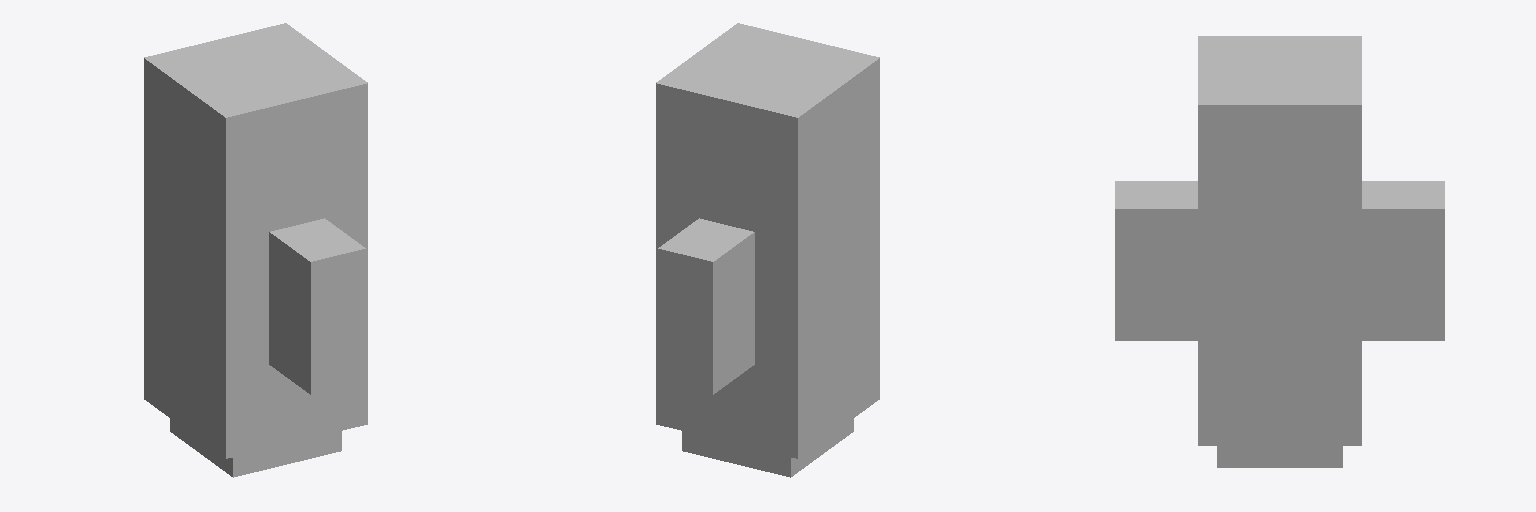
The model's file is Myknight.obj.
3 views of the same model, side by side, from view 1: azimuth 30°, elevation 25°; view 2: azimuth 150°, elevation 25°; view 3: azimuth 270°, elevation 25° (orthographic).
Visible parts, largest first — view 1: Cube_Cube.001; view 2: Cube_Cube.001; view 3: Cube_Cube.001.
Part boxes in pixels (x1,y1,x2,y2): Cube_Cube.001: (144,23,367,477); Cube_Cube.001: (656,23,879,477); Cube_Cube.001: (1115,36,1444,467).
Size of the model in its own units: 2 by 4.98 by 4.